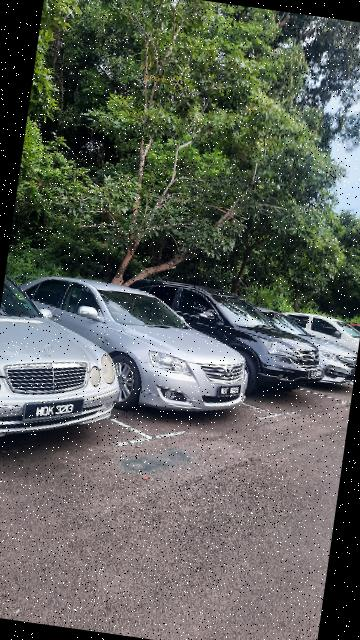License_Plate: (22, 390, 88, 430), (217, 382, 244, 401), (308, 366, 330, 383)
car: (5, 266, 261, 427), (120, 277, 335, 405), (1, 269, 136, 462), (240, 303, 360, 389)
